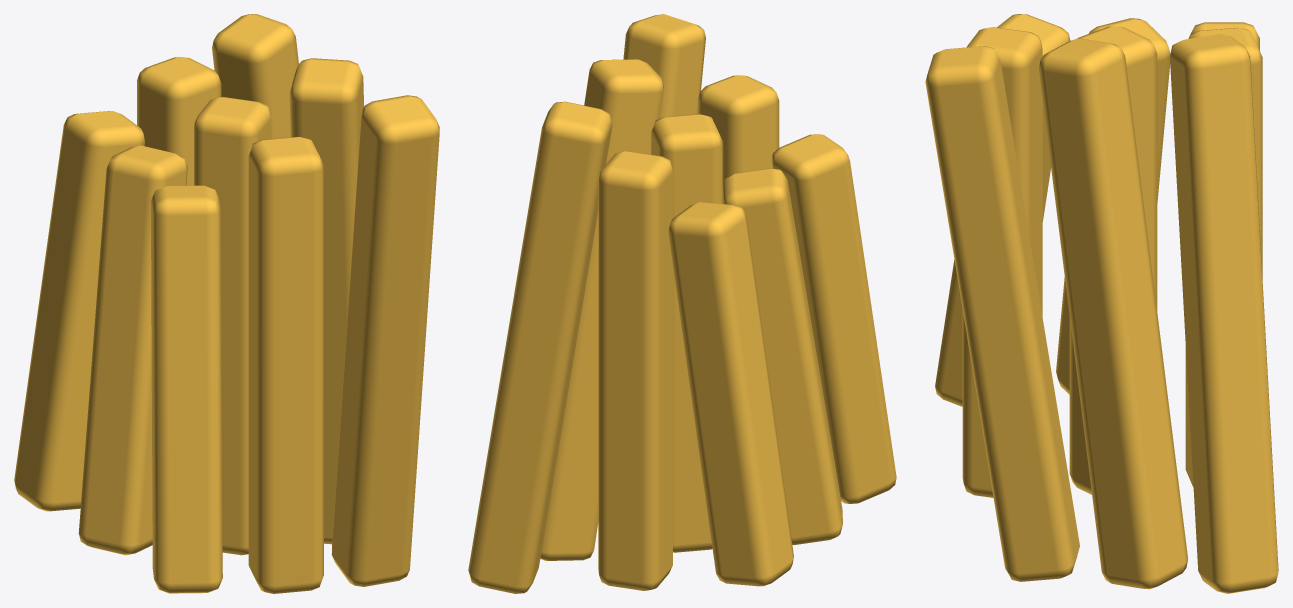
The model's file is fries.glb.
3 views of the same model, side by side, from view 1: azimuth 30°, elevation 25°; view 2: azimuth 150°, elevation 25°; view 3: azimuth 270°, elevation 25° (orthographic). The views are drawn at different scales.
Parts seen in each view (by area): view 1: fries; view 2: fries; view 3: fries.
Boxes of the visible parts, x1,y1,x2,y2 form: fries: [14, 14, 439, 593]; fries: [468, 14, 896, 593]; fries: [925, 14, 1278, 593].
Bounding box in the file's own units: 0.2417 × 0.3597 × 0.2232.
